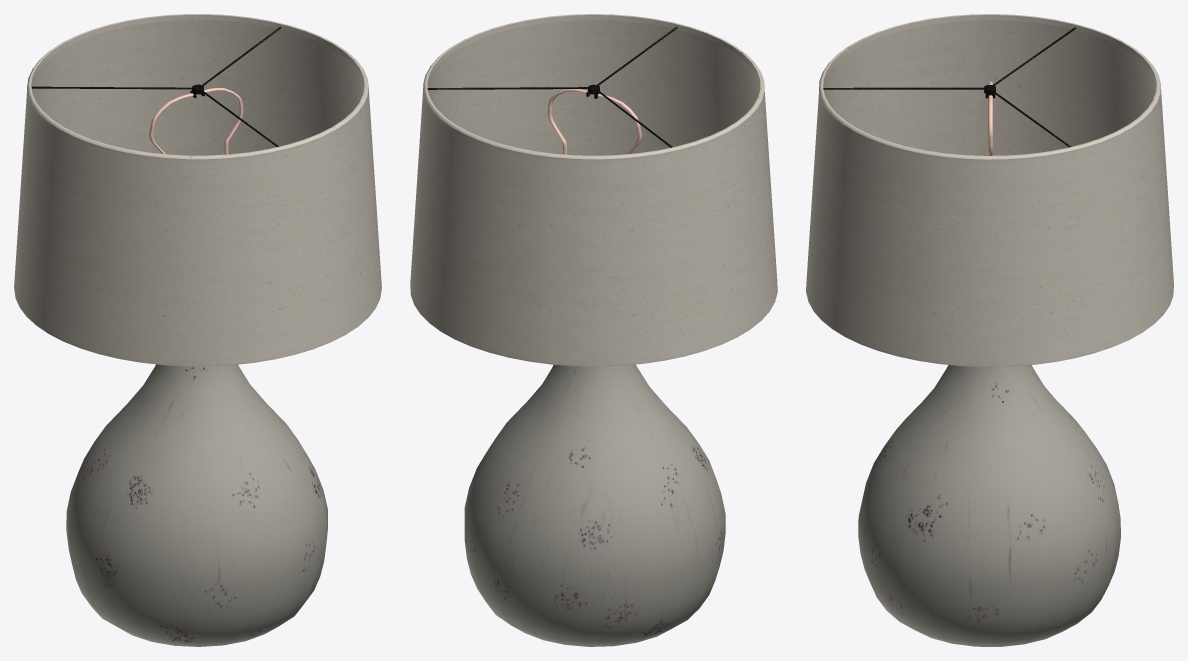
Rendered from textured_teardrop_table_lamp.glb.
3 views of the same model, side by side, from view 1: azimuth 30°, elevation 25°; view 2: azimuth 150°, elevation 25°; view 3: azimuth 270°, elevation 25° (orthographic).
Visible parts, largest first — view 1: RootNode; view 2: RootNode; view 3: RootNode.
Boxes of the visible parts, x1=… form: RootNode: x1=14, y1=14, x2=381, y2=646; RootNode: x1=410, y1=14, x2=777, y2=646; RootNode: x1=806, y1=14, x2=1173, y2=646.
Bounding box in the file's own units: 0.3298 × 0.5214 × 0.3296.
Materials: 1 (1 with a texture image).
